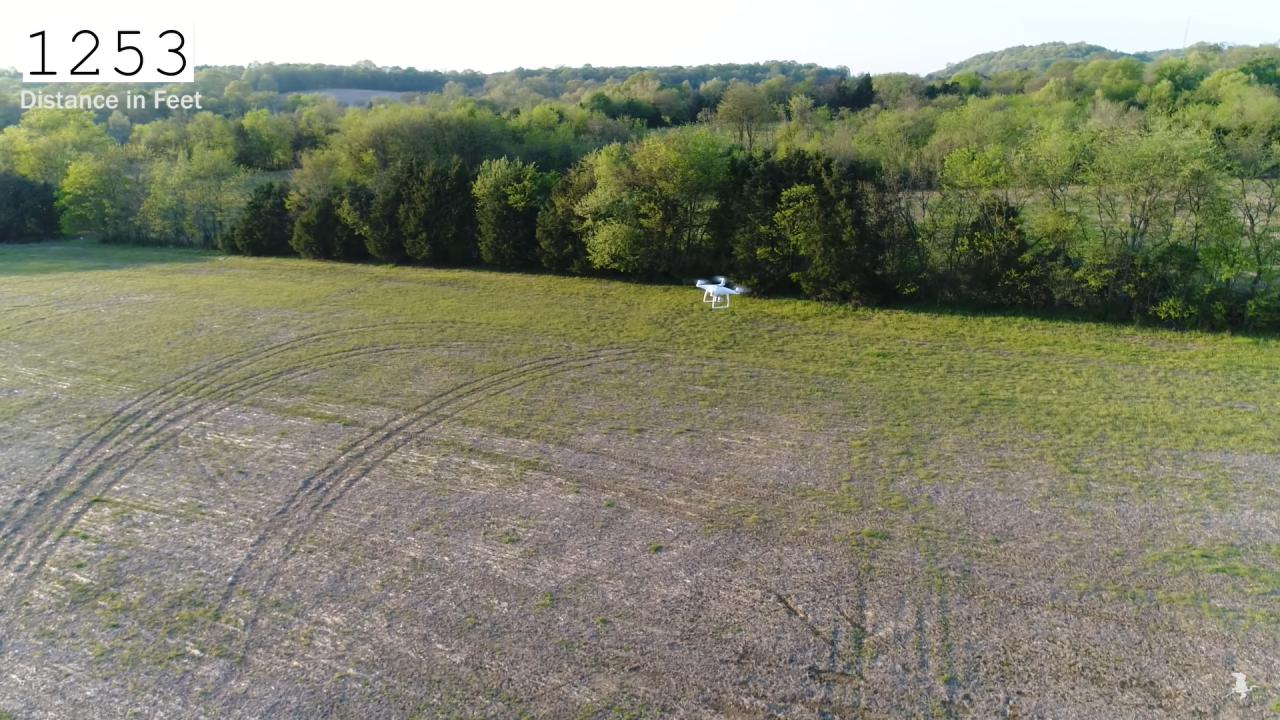Drone: (684, 268, 758, 320)
